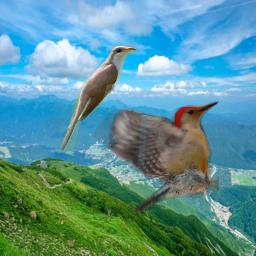Cuckoo: (58, 45, 137, 154)
Woodpecker: (91, 99, 219, 212)
